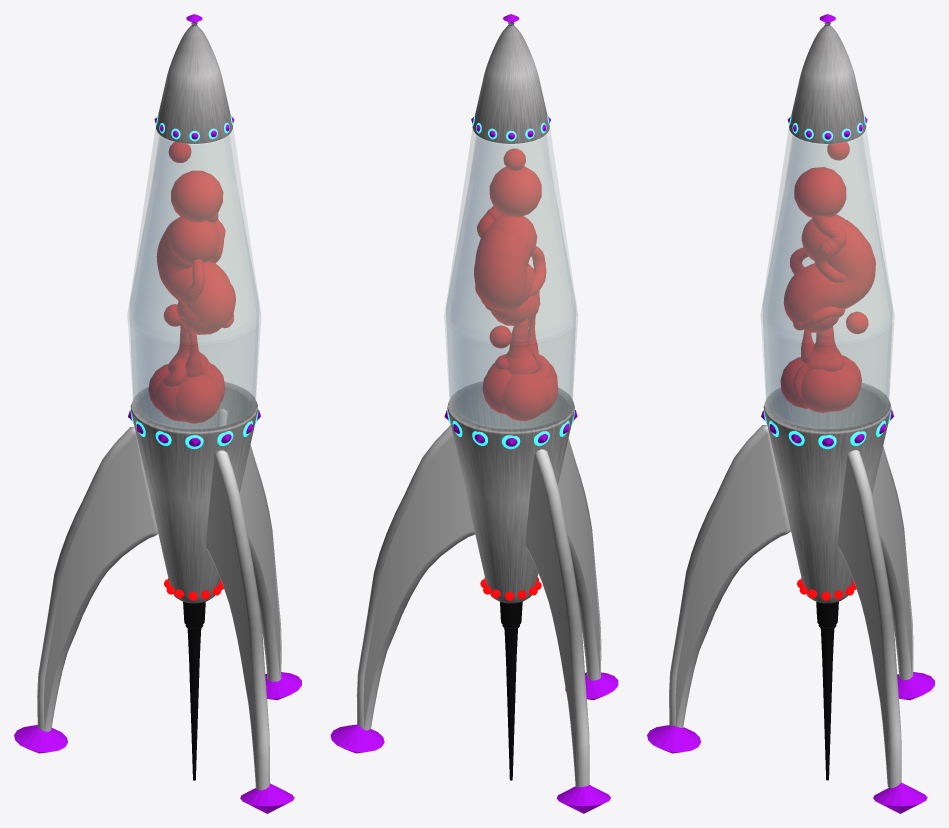
Rendered from lavacohete.gltf.
The picture shows the model from 3 angles, left to right: view 1: azimuth 30°, elevation 25°; view 2: azimuth 150°, elevation 25°; view 3: azimuth 270°, elevation 25°; orthographic projection.
Parts seen in each view (by area): view 1: s0009_8435, s0007_2251, s0033_3079__GravitySketch_11-54-48BaseMaterial10_0, s0014_0981_15 - Default_0, s0011_8933, s0010_0480, s0035_2828, s0000_1997, s0031_5112; view 2: s0009_8435, s0007_2251, s0033_3079__GravitySketch_11-54-48BaseMaterial10_0, s0014_0981_15 - Default_0, s0011_8933, s0010_0480, s0035_2828, s0000_1997, s0031_5112; view 3: s0009_8435, s0007_2251, s0033_3079__GravitySketch_11-54-48BaseMaterial10_0, s0014_0981_15 - Default_0, s0011_8933, s0010_0480, s0035_2828, s0000_1997, s0031_5112.
Boxes of the visible parts, x1=… form: s0009_8435: x1=127, y1=128, x2=261, y2=429; s0007_2251: x1=130, y1=136, x2=258, y2=429; s0033_3079__GravitySketch_11-54-48BaseMaterial10_0: x1=37, y1=409, x2=281, y2=790; s0014_0981_15 - Default_0: x1=148, y1=142, x2=235, y2=423; s0011_8933: x1=130, y1=382, x2=257, y2=603; s0010_0480: x1=156, y1=22, x2=232, y2=143; s0035_2828: x1=14, y1=672, x2=301, y2=813; s0000_1997: x1=183, y1=602, x2=205, y2=780; s0031_5112: x1=130, y1=408, x2=258, y2=449; s0009_8435: x1=444, y1=128, x2=577, y2=429; s0007_2251: x1=446, y1=136, x2=575, y2=429; s0033_3079__GravitySketch_11-54-48BaseMaterial10_0: x1=356, y1=425, x2=601, y2=787; s0014_0981_15 - Default_0: x1=474, y1=148, x2=557, y2=420; s0011_8933: x1=447, y1=381, x2=574, y2=603; s0010_0480: x1=472, y1=22, x2=549, y2=143; s0035_2828: x1=330, y1=672, x2=618, y2=813; s0000_1997: x1=500, y1=601, x2=522, y2=780; s0031_5112: x1=447, y1=409, x2=574, y2=449; s0009_8435: x1=760, y1=128, x2=894, y2=429; s0007_2251: x1=763, y1=136, x2=892, y2=429; s0033_3079__GravitySketch_11-54-48BaseMaterial10_0: x1=669, y1=411, x2=913, y2=788; s0014_0981_15 - Default_0: x1=780, y1=142, x2=875, y2=412; s0011_8933: x1=763, y1=383, x2=891, y2=603; s0010_0480: x1=789, y1=22, x2=866, y2=143; s0035_2828: x1=647, y1=672, x2=934, y2=813; s0000_1997: x1=816, y1=601, x2=838, y2=780; s0031_5112: x1=763, y1=409, x2=891, y2=449.
Bounding box in the file's own units: 1.29 × 3.4 × 1.16.
Materials: 12 (2 with a texture image).
